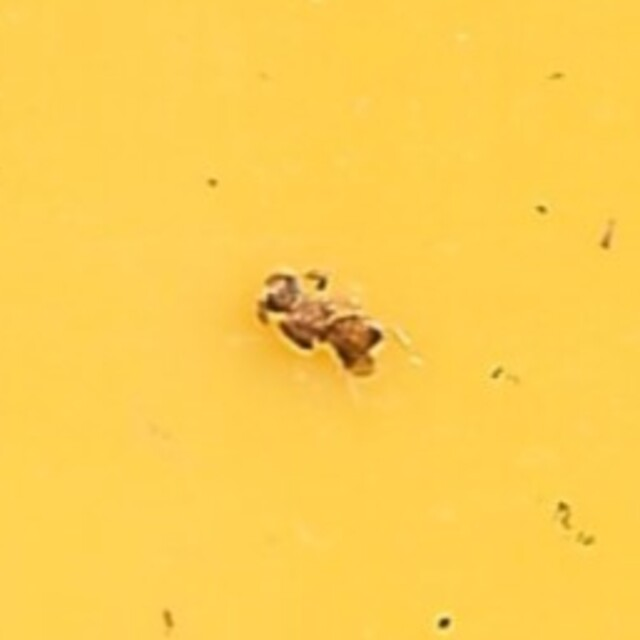Hymenoptera: (249, 264, 391, 376)
